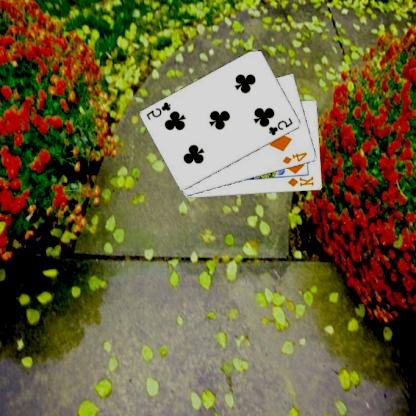4D: (282, 150, 310, 166)
5C: (268, 115, 296, 137), (146, 100, 174, 122)
KD: (286, 174, 316, 188)
